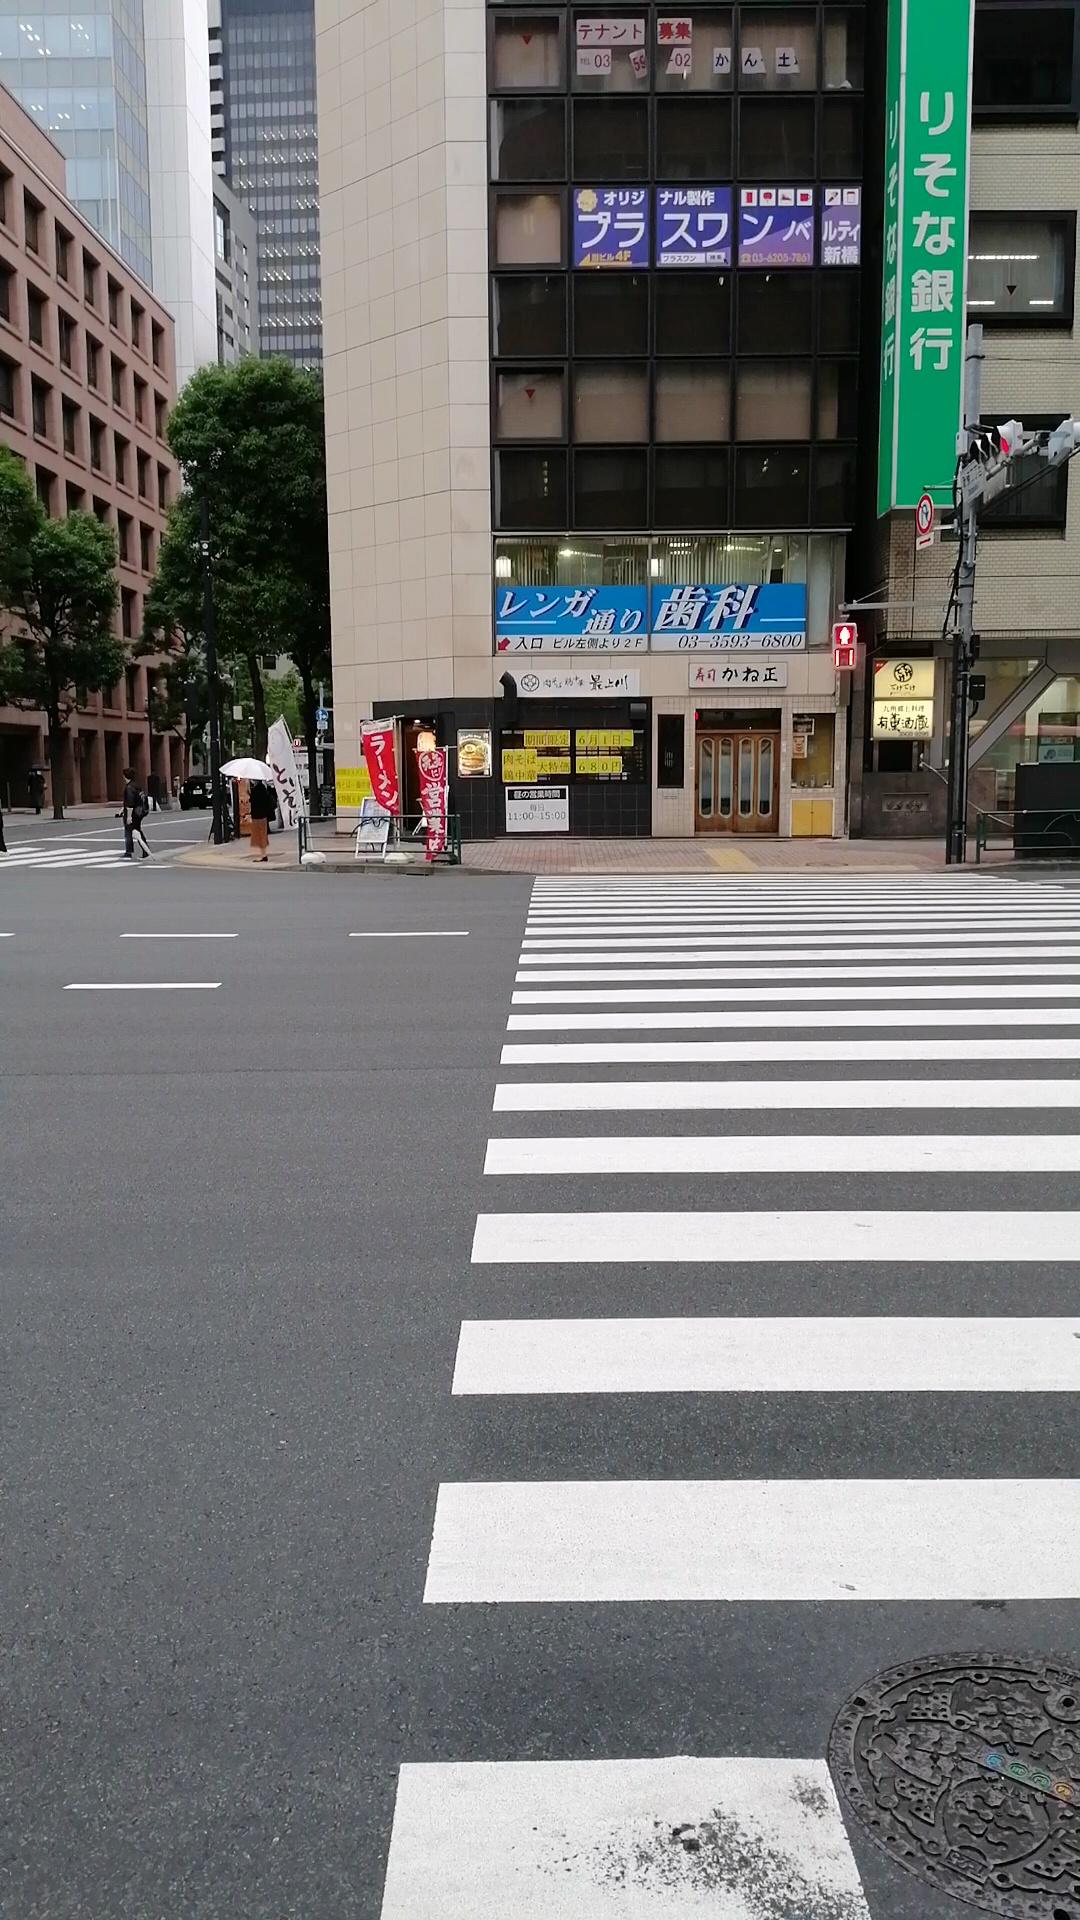red: (829, 621, 856, 673)
